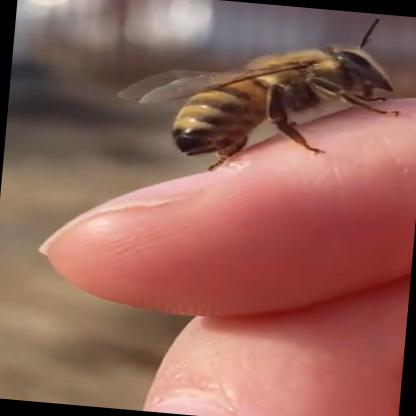bee: (99, 0, 398, 201)
